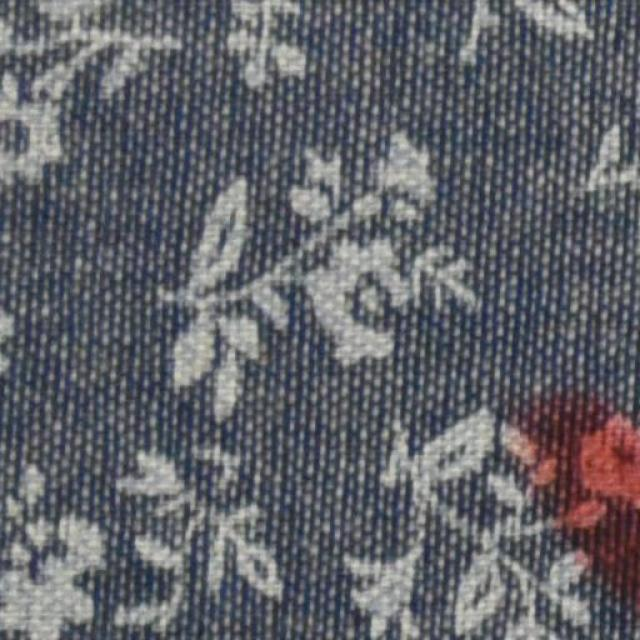Stain: (535, 387, 639, 616)
